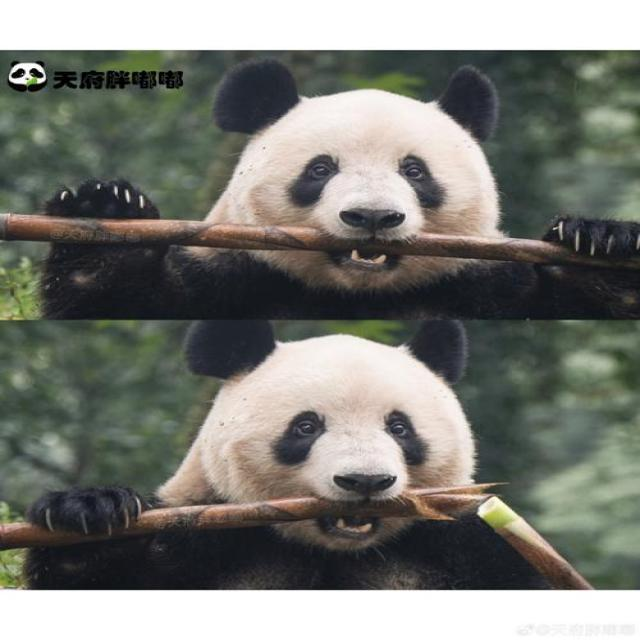panda: (72, 64, 624, 318), (53, 333, 583, 582)
